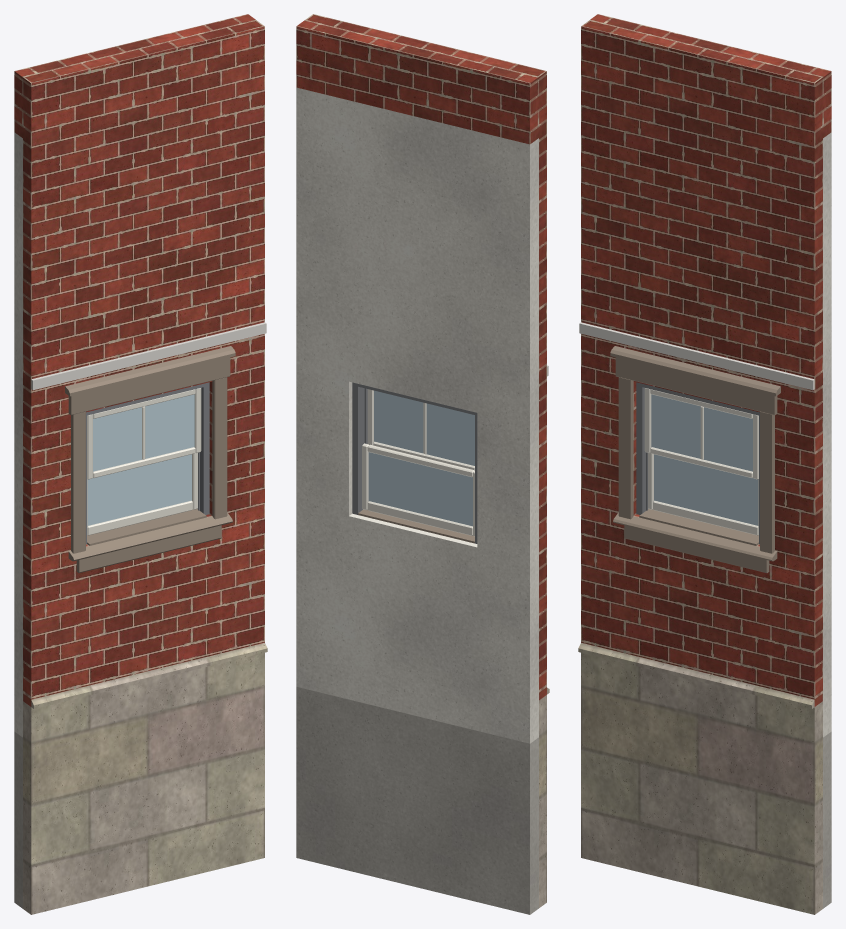
The model's file is b_win.glb.
The picture shows the model from 3 angles, left to right: view 1: azimuth 30°, elevation 25°; view 2: azimuth 150°, elevation 25°; view 3: azimuth 330°, elevation 25°; orthographic projection.
Visible parts, largest first — view 1: b_win_brick, b_win_stone, b_win_trim, b_win_glass, b_win_plaster, b_win_sash, b_win_coping, b_win_frame, b_win_concrete; view 2: b_win_plaster, b_win_concrete, b_win_brick, b_win_glass, b_win_sash, b_win_frame, b_win_stone, b_win_trim; view 3: b_win_brick, b_win_stone, b_win_trim, b_win_glass, b_win_plaster, b_win_sash, b_win_coping, b_win_frame, b_win_concrete.
Boxes of the visible parts, x1=… form: b_win_brick: x1=14, y1=14, x2=264, y2=706; b_win_stone: x1=23, y1=643, x2=267, y2=914; b_win_trim: x1=65, y1=346, x2=235, y2=572; b_win_glass: x1=87, y1=394, x2=194, y2=525; b_win_plaster: x1=14, y1=132, x2=22, y2=737; b_win_sash: x1=87, y1=388, x2=201, y2=535; b_win_coping: x1=31, y1=322, x2=266, y2=390; b_win_frame: x1=86, y1=382, x2=209, y2=544; b_win_concrete: x1=14, y1=731, x2=22, y2=908; b_win_plaster: x1=296, y1=87, x2=538, y2=743; b_win_concrete: x1=296, y1=687, x2=538, y2=914; b_win_brick: x1=296, y1=14, x2=546, y2=700; b_win_glass: x1=368, y1=390, x2=474, y2=526; b_win_sash: x1=362, y1=389, x2=474, y2=536; b_win_frame: x1=352, y1=382, x2=477, y2=543; b_win_stone: x1=539, y1=687, x2=549, y2=907; b_win_trim: x1=358, y1=509, x2=474, y2=543; b_win_brick: x1=581, y1=14, x2=831, y2=706; b_win_stone: x1=578, y1=643, x2=822, y2=914; b_win_trim: x1=610, y1=346, x2=780, y2=572; b_win_glass: x1=651, y1=394, x2=758, y2=525; b_win_plaster: x1=823, y1=132, x2=831, y2=737; b_win_sash: x1=644, y1=388, x2=758, y2=535; b_win_coping: x1=579, y1=322, x2=814, y2=390; b_win_frame: x1=636, y1=382, x2=759, y2=544; b_win_concrete: x1=823, y1=731, x2=831, y2=908.
Bounding box in the file's own units: 2 × 6.8 × 0.332.
9 materials, 4 textured.
